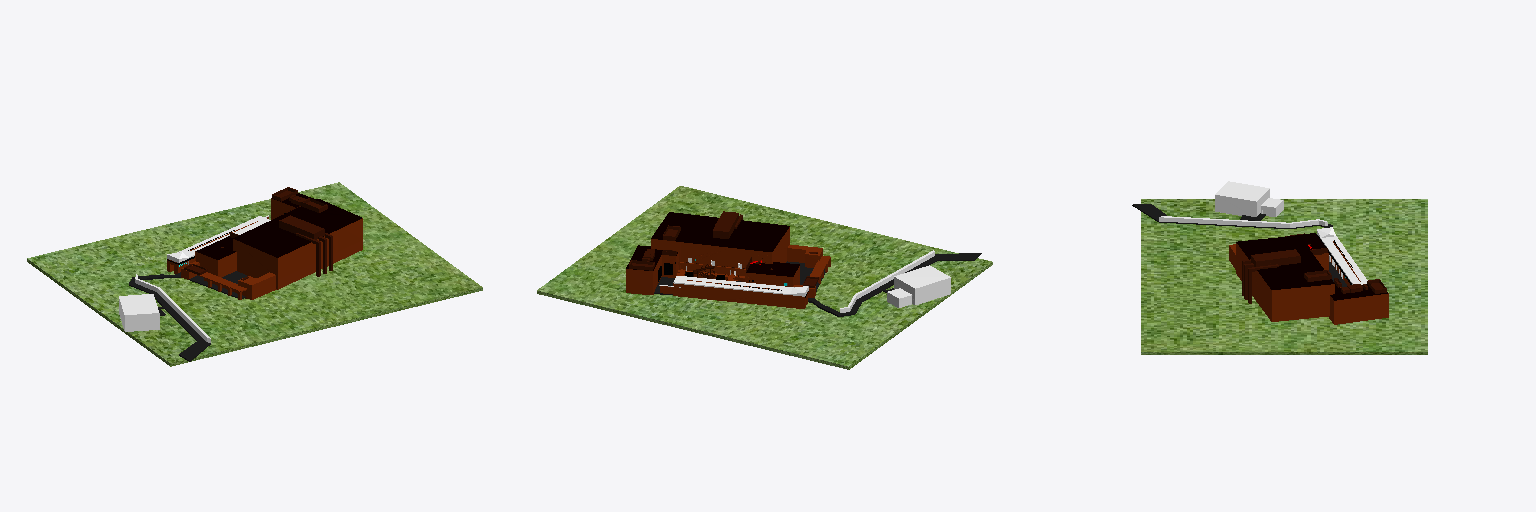
The picture shows the model from 3 angles: view 1: azimuth 30°, elevation 25°; view 2: azimuth 150°, elevation 25°; view 3: azimuth 270°, elevation 25°; orthographic projection.
Parts seen in each view (by area): view 1: Object.1; view 2: Object.1; view 3: Object.1.
Part boxes in pixels (bbox=[...]): Object.1: bbox=[27, 182, 482, 366]; Object.1: bbox=[537, 186, 992, 369]; Object.1: bbox=[1132, 181, 1427, 354].
Size of the model in its own units: 22.1 by 2.96 by 18.01.
14 materials, 1 textured.